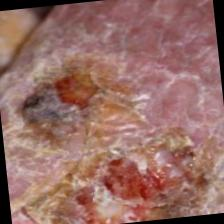wound-ulser: (35, 125, 219, 224), (7, 63, 122, 137)
